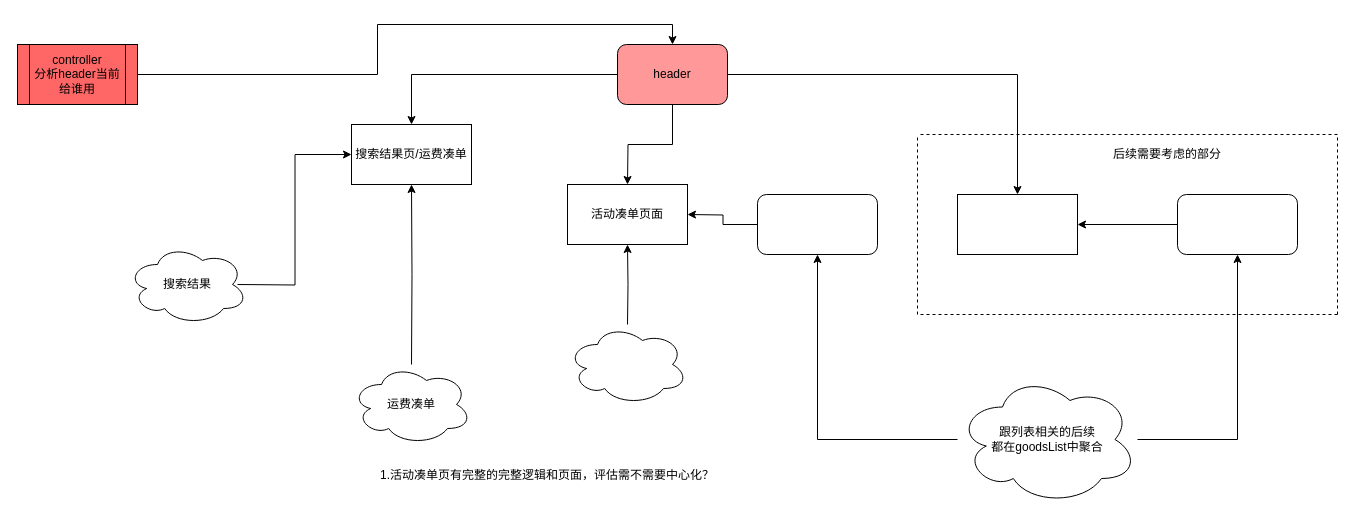
The diagram is 1356 pixels wide and 522 high, and some of its shapes have lost their labels. The box of each missing label's shape, as (x1, y1, x2, y2) in pixels:
goodsList: (1176, 194, 1298, 254)
goodsList里面加个满减满折、N元N件 goodsItem: (756, 194, 878, 254)
优惠券凑单: (956, 194, 1078, 254)
满减满折、N元N件: (566, 324, 688, 404)
